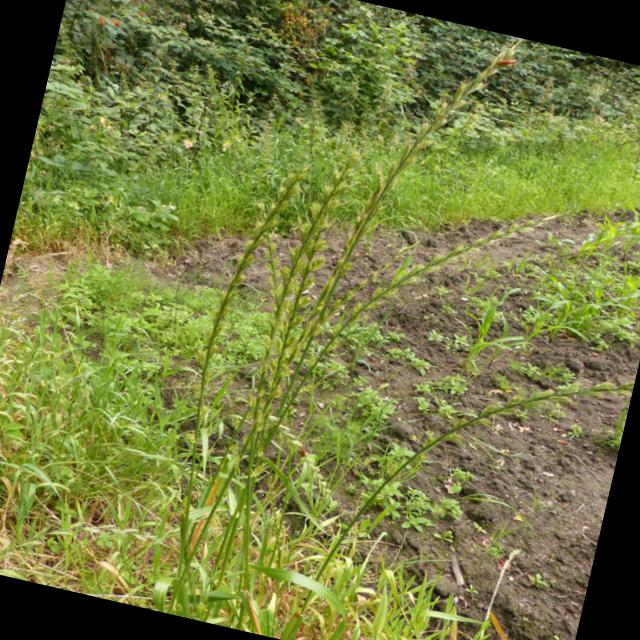Lolium: (203, 5, 500, 620), (267, 310, 622, 640), (146, 148, 304, 568), (206, 140, 356, 542), (341, 171, 568, 367)
